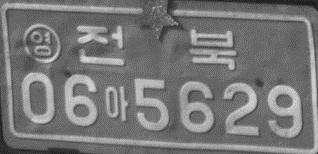0: (20, 72, 55, 124)
2: (223, 81, 259, 136)
5: (134, 77, 169, 132)
6: (178, 80, 214, 133), (63, 73, 97, 127)
9: (266, 84, 302, 138)
아: (104, 85, 128, 121)
영: (22, 22, 62, 64)
전북_D: (76, 24, 238, 71)
